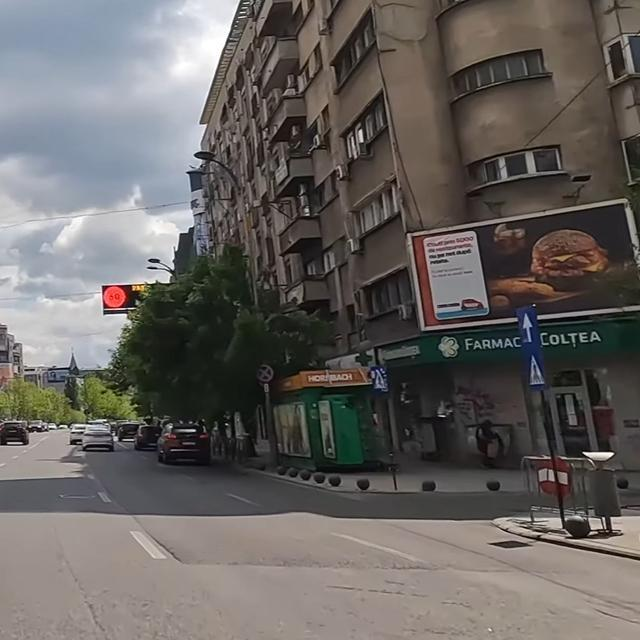forb_waiting: (256, 364, 274, 384)
info_crosswalk: (525, 353, 549, 391), (370, 365, 388, 392)
